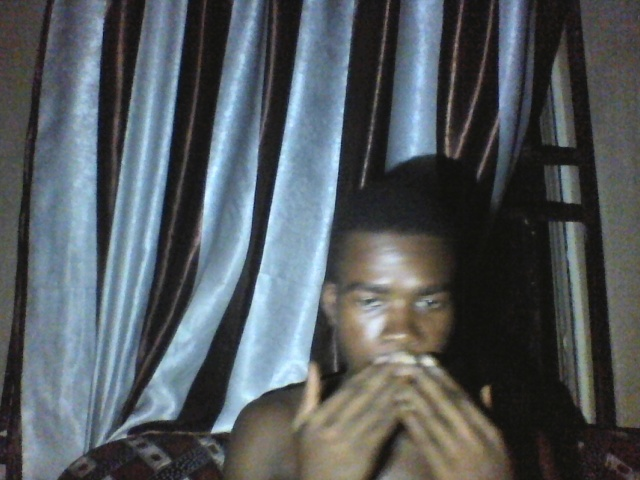thank you: (281, 319, 554, 480)
